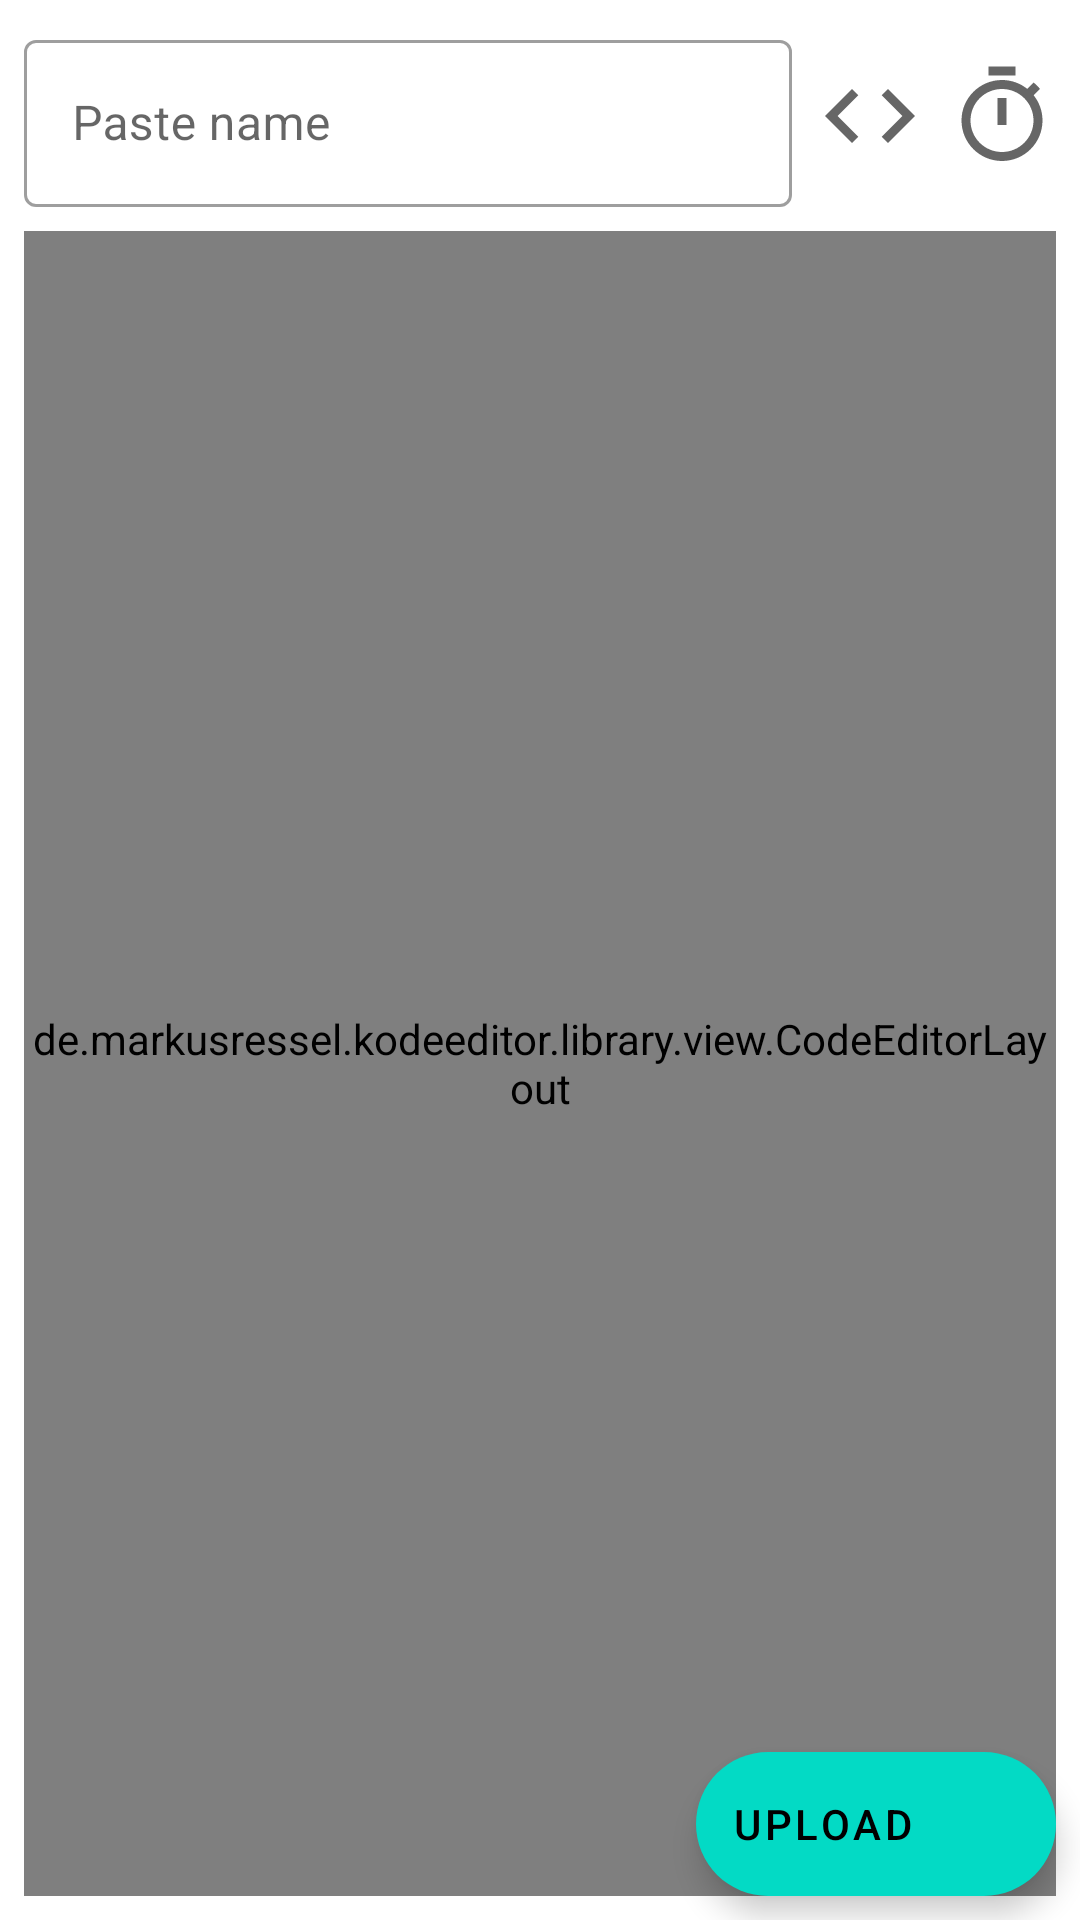

Icons on this 1080w x 1920h Android screen, each with its box as (x1, y1, x2, y2):
timer: (961, 66, 1043, 161)
